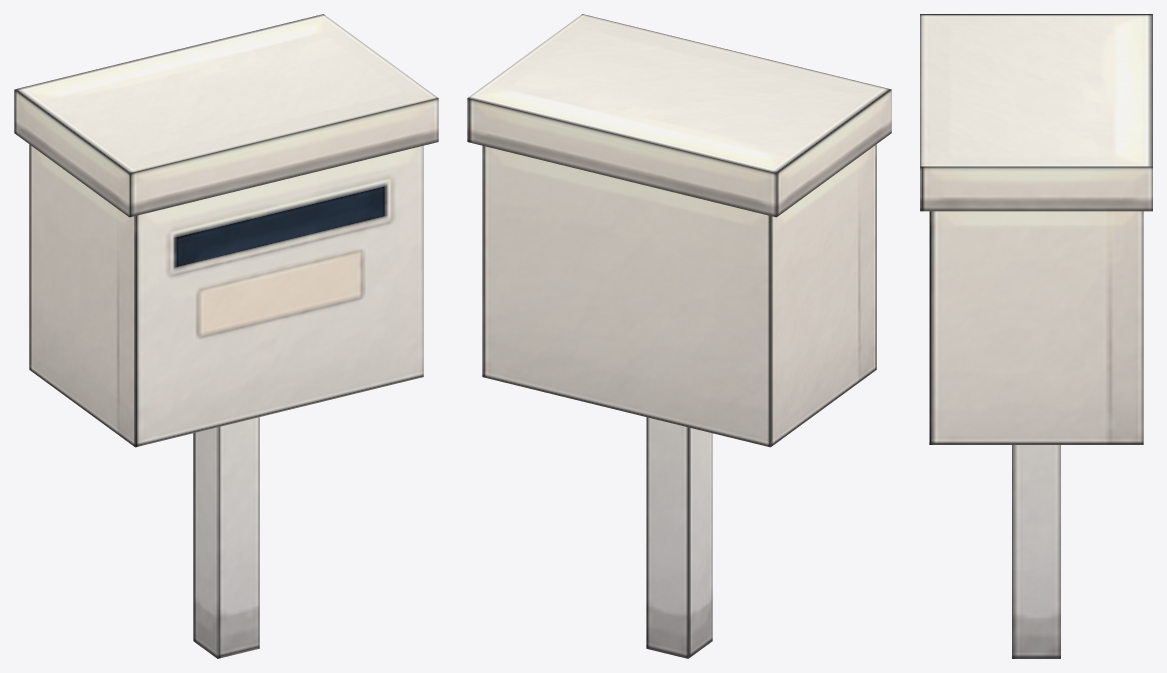
The model's file is mailbox.glb.
3 renders of one model, left to right at view 1: azimuth 30°, elevation 25°; view 2: azimuth 150°, elevation 25°; view 3: azimuth 270°, elevation 25°, orthographic.
Visible parts, largest first — view 1: screenrace_mailbox; view 2: screenrace_mailbox; view 3: screenrace_mailbox.
Part boxes in pixels (bbox=[...]): screenrace_mailbox: bbox=[14, 14, 438, 658]; screenrace_mailbox: bbox=[467, 14, 891, 658]; screenrace_mailbox: bbox=[920, 14, 1152, 658].
Size of the model in its own units: 1.18 by 2.01 by 0.76.
1 material, 1 textured.
